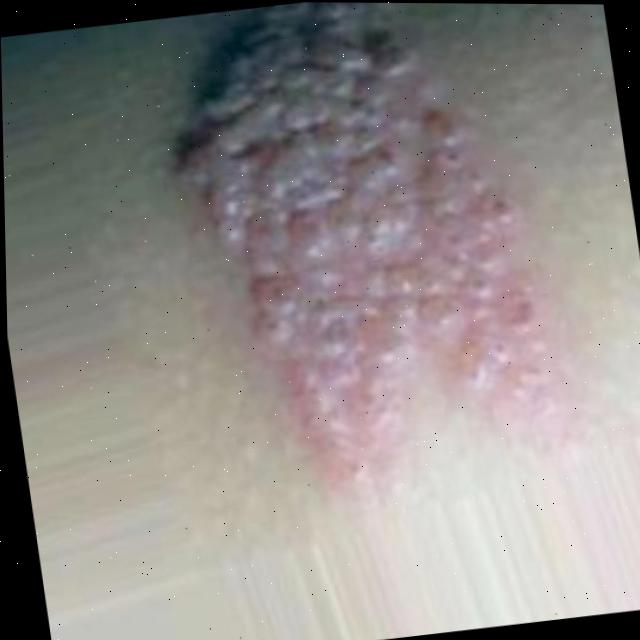Shingles: (167, 1, 556, 531)
